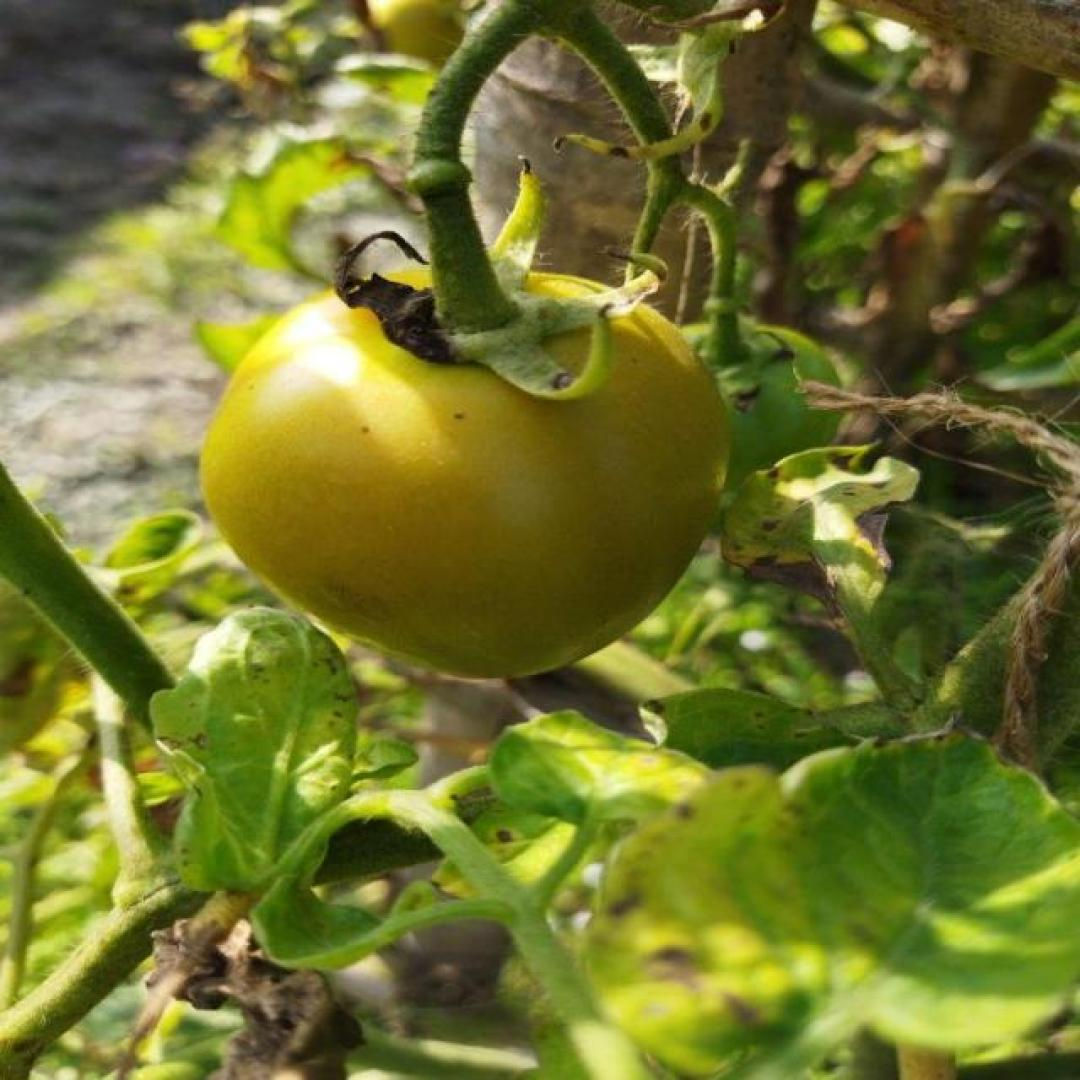setengah_matang: (198, 260, 730, 683)
